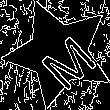M_NW: (24, 19, 93, 88)
